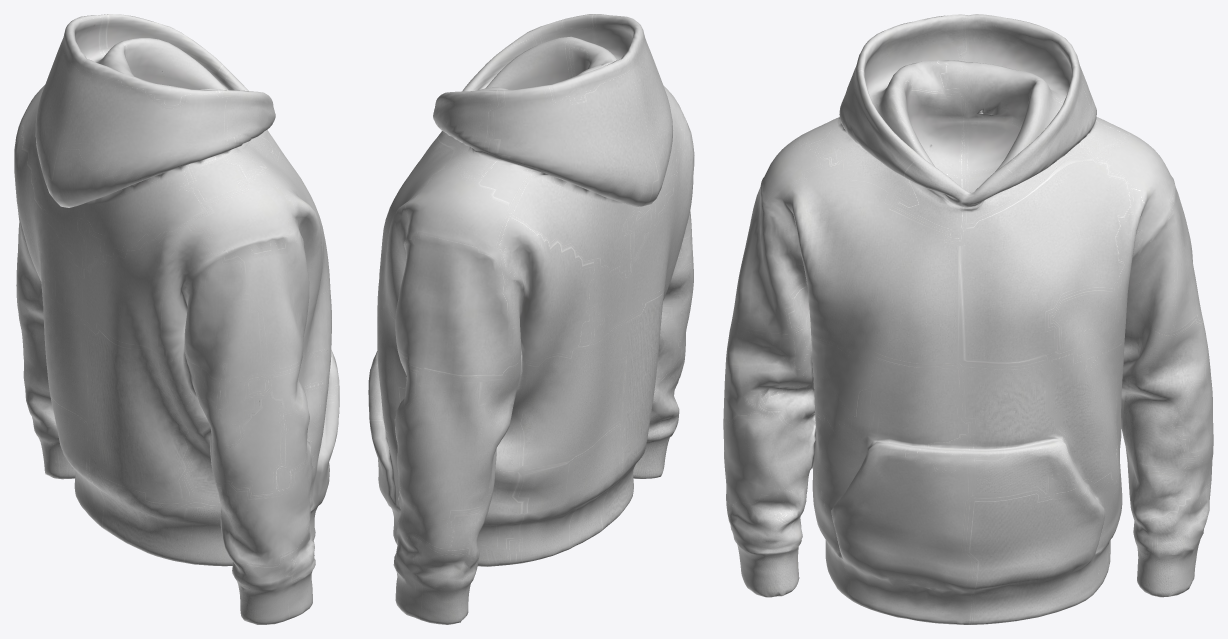
Rendered from hoodie.glb.
The picture shows the model from 3 angles, left to right: view 1: azimuth 30°, elevation 25°; view 2: azimuth 150°, elevation 25°; view 3: azimuth 270°, elevation 25°; orthographic projection. The views are drawn at different scales.
Visible parts, largest first — view 1: tripo_node_a8bc5188_remesh; view 2: tripo_node_a8bc5188_remesh; view 3: tripo_node_a8bc5188_remesh.
Part boxes in pixels (x1,y1,x2,y2): tripo_node_a8bc5188_remesh: (14,14,339,624); tripo_node_a8bc5188_remesh: (368,14,694,624); tripo_node_a8bc5188_remesh: (723,14,1213,624).
Size of the model in its own units: 115 by 213 by 181.
Materials: 1 (1 with a texture image).
